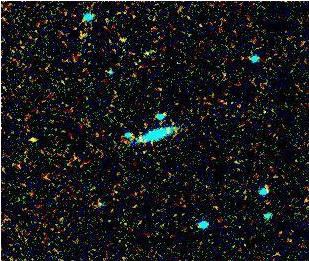star: (11, 124, 41, 154)
